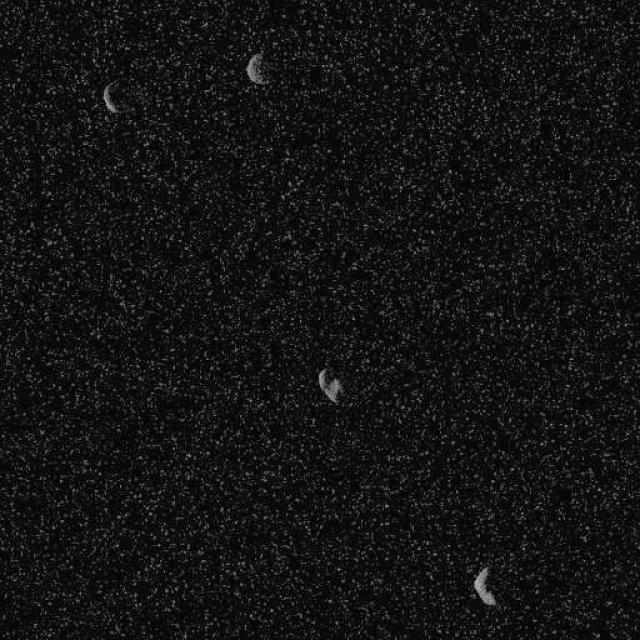D2: (472, 566, 497, 606), (316, 366, 342, 404), (245, 51, 269, 85), (101, 78, 122, 114)
